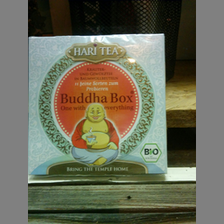tea: (29, 33, 166, 183)
